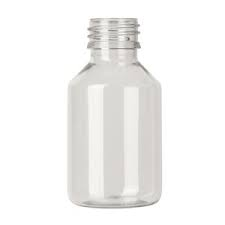available: (62, 13, 165, 214)
